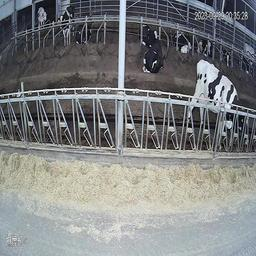cow: (201, 60, 254, 150), (58, 0, 75, 49), (144, 33, 164, 73), (172, 28, 193, 55), (243, 37, 254, 79), (76, 20, 94, 44), (35, 3, 48, 35), (197, 34, 214, 58), (221, 44, 233, 69)
